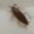cockroach: (10, 6, 29, 26)
